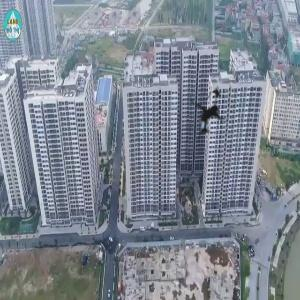drone: (159, 67, 255, 163)
